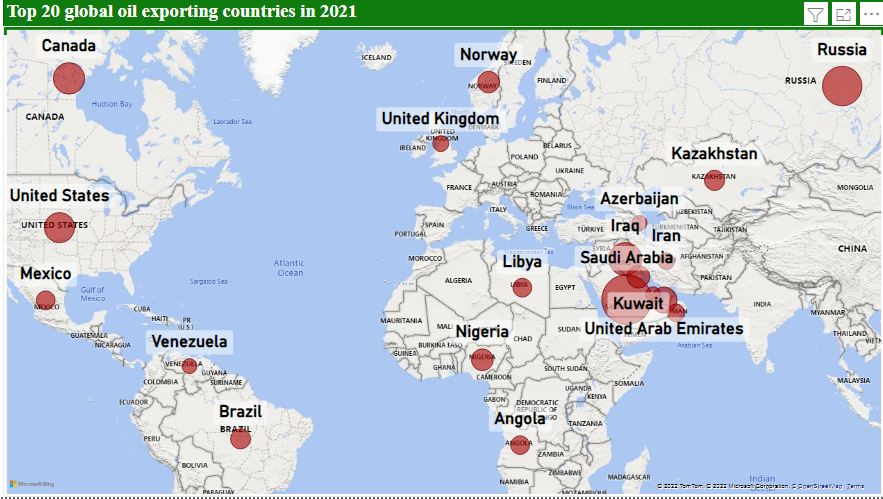

Layout of this report page (visuals, bound fields, positions):
{"tool":"powerbi","page":{"name":"Top 20 oil Exporting","canvas":[1280,720],"ordinal":3},"visuals":[{"type":"shape","box":[10.1,0,1270.1,54.7],"z":0},{"type":"textbox","box":[10.1,0,1269.9,42],"z":1000},{"type":"map","fields":{"Category":["World Export.country (Barrel/Day th)"],"Size":["Sum(World Export.Export)"]},"box":[10.1,42,1269.9,678.6],"z":2000}]}

Visuals, with their boxes in screenshot pixels (x1, y1, x2, y2), scaled from the page's 1280x720 canvas onto the 883x499 screenshot:
shape: detection(7, 0, 882, 38)
textbox: detection(7, 0, 882, 29)
map - World Export.country (Barrel/Day th) x Sum(World Export.Export): detection(7, 29, 882, 498)
